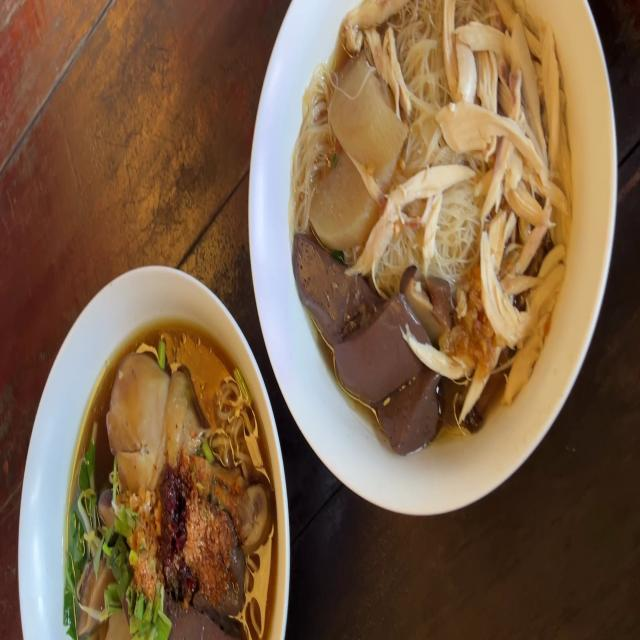noodle: (340, 303, 420, 396), (293, 241, 345, 342), (388, 375, 432, 449), (164, 598, 230, 640), (222, 546, 247, 608)
